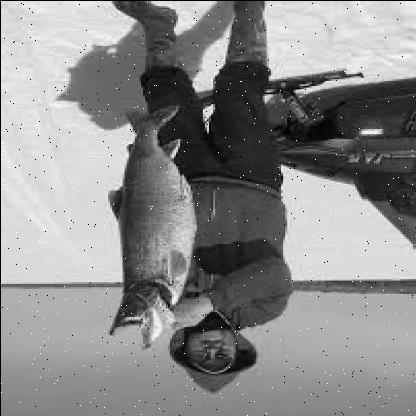fish: (102, 107, 200, 353)
